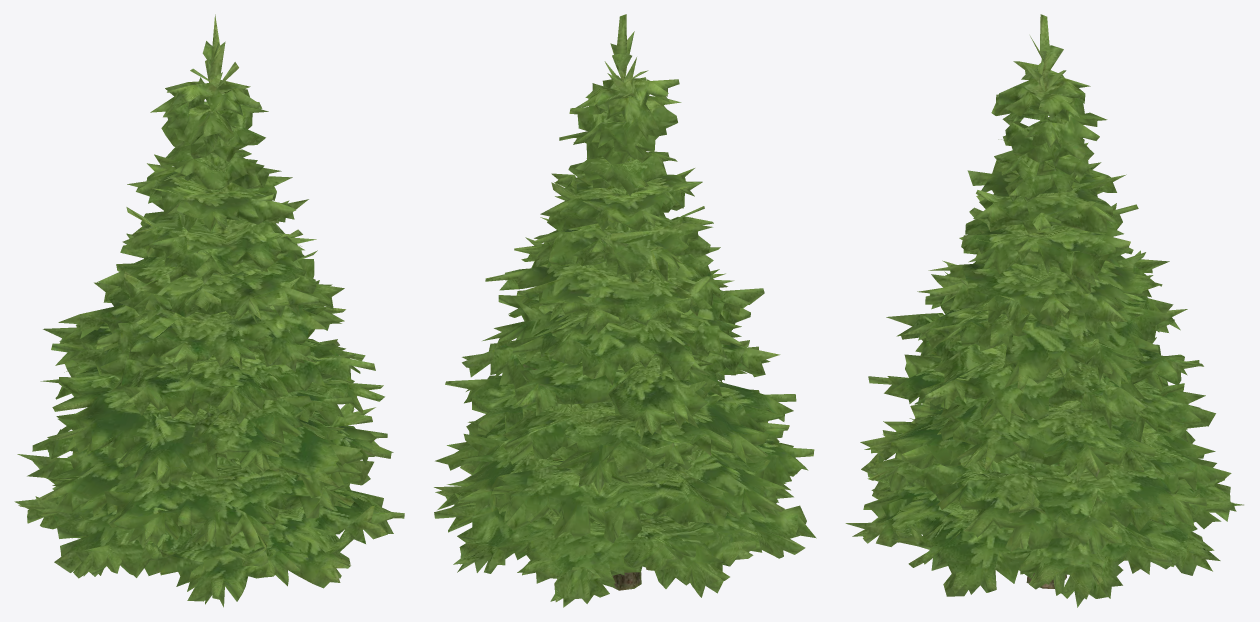
File: evergreen.glb
The picture shows the model from 3 angles, left to right: view 1: azimuth 30°, elevation 25°; view 2: azimuth 150°, elevation 25°; view 3: azimuth 270°, elevation 25°; orthographic projection.
Parts seen in each view (by area): view 1: Mesh1.0; view 2: Mesh1.0; view 3: Mesh1.0.
Part boxes in pixels (x1=…): Mesh1.0: x1=14, y1=14, x2=404, y2=607; Mesh1.0: x1=434, y1=14, x2=816, y2=607; Mesh1.0: x1=845, y1=14, x2=1243, y2=607.
Size of the model in its own units: 1.19 by 1.9 by 1.22.
Materials: 1 (1 with a texture image).
